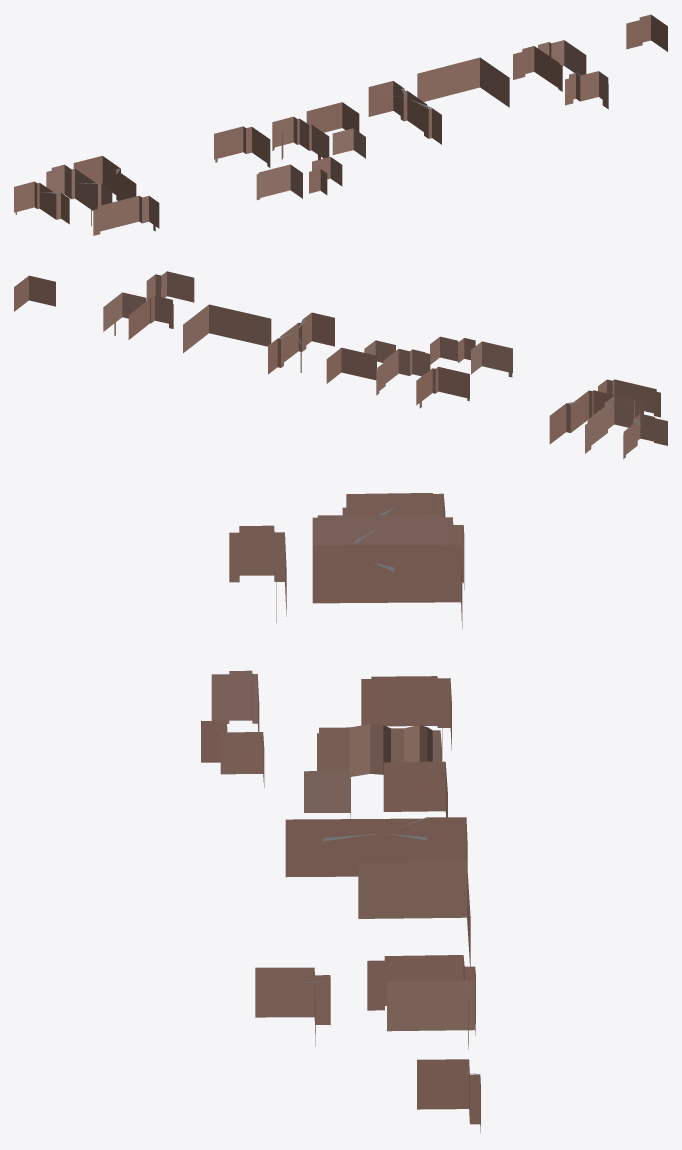
The model's file is c_1637_17828_buildings_residential.glb.
The picture shows the model from 3 angles, top to bottom: view 1: azimuth 30°, elevation 25°; view 2: azimuth 150°, elevation 25°; view 3: azimuth 270°, elevation 25°; orthographic projection. The views are drawn at different scales.
Visible parts, largest first — view 1: geometry_0; view 2: geometry_0; view 3: geometry_0.
Part boxes in pixels (x1,y1,x2,y2): geometry_0: [14, 14, 667, 235]; geometry_0: [14, 271, 667, 458]; geometry_0: [201, 493, 480, 1132].
Bounding box in the file's own units: 249 × 12.82 × 48.41.
